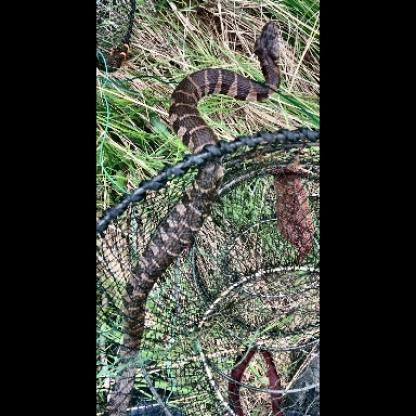Snake: (104, 30, 315, 404), (99, 2, 302, 198)
